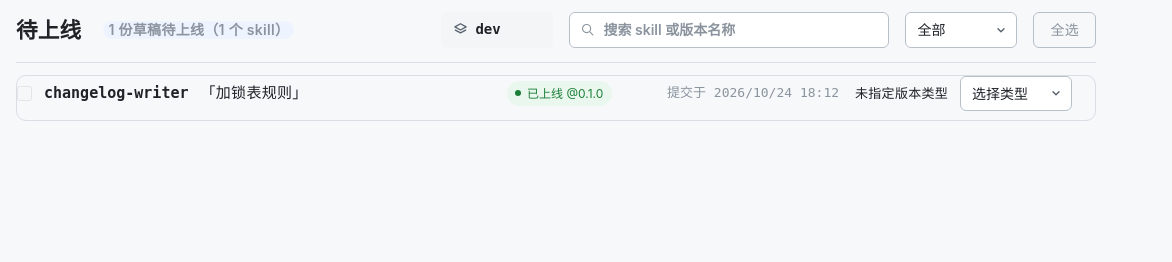
the queue › cannot tick a row with no kind, and writes the kind back the moment one is chosen
The image size is (1172, 262).
Expected: the checkbox named "选择 changelog-writer 的「加锁表规则」" is disabled, 17,86 -> 32,101
Click the button with class "menu-trigger" showing "选择类型". click: [1016, 93]
box: 960,76 -> 1072,111
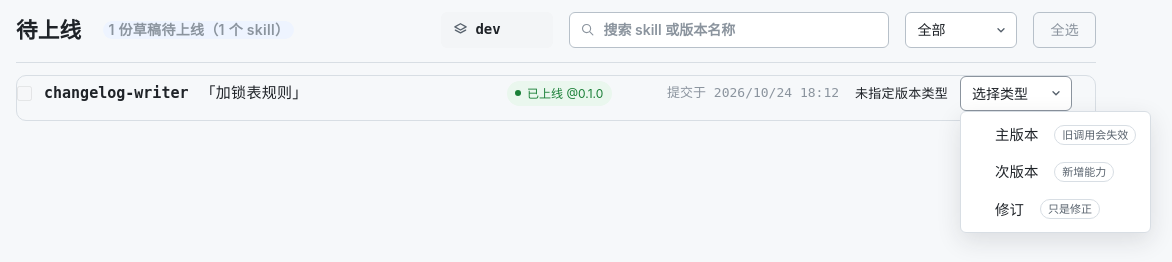
Click the option with class "menu-item" showing "次版本 新增能力". click: [1056, 172]
box: 965,153 -> 1146,191
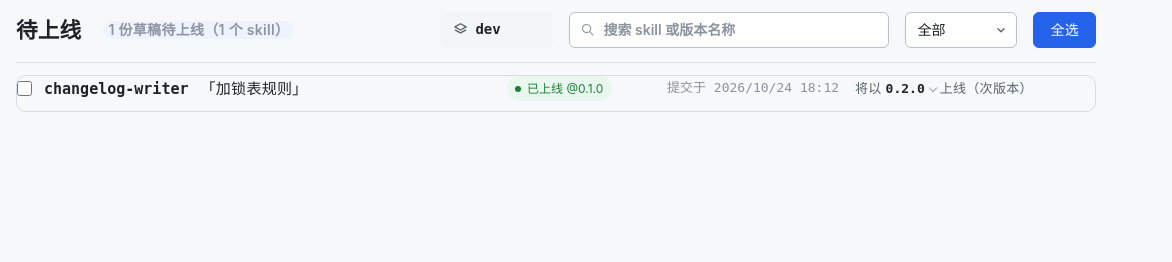
Result: the text with class "menu-trigger-text" reads "0.2.0" at 886,81 -> 925,96
Result: the checkbox named "选择 changelog-writer 的「加锁表规则」" is enabled at 17,81 -> 32,96
